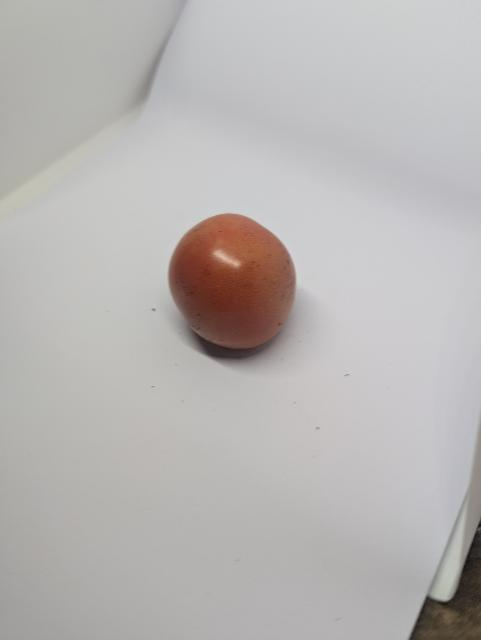red: (166, 208, 303, 360)
